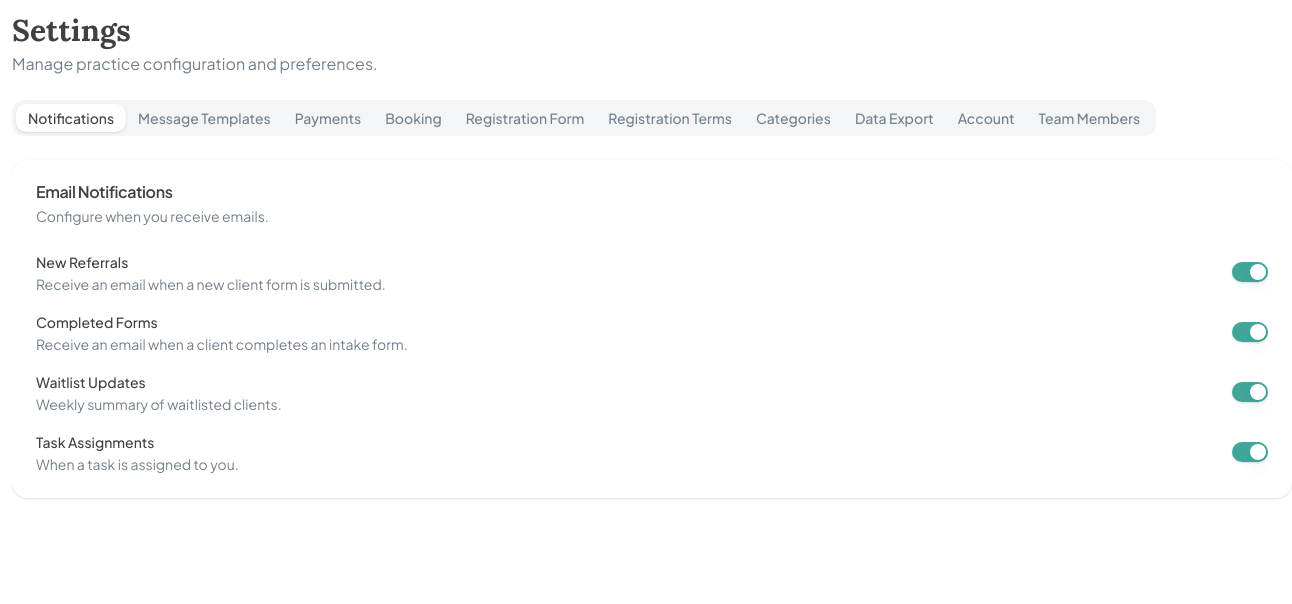
Scenario: signed-in booking settings › keeps an already-enabled workflow switch available so admins can turn it off when reconciliation is disabled
Click the tab "Booking". click: (413, 118)
box: 373,104 -> 454,132
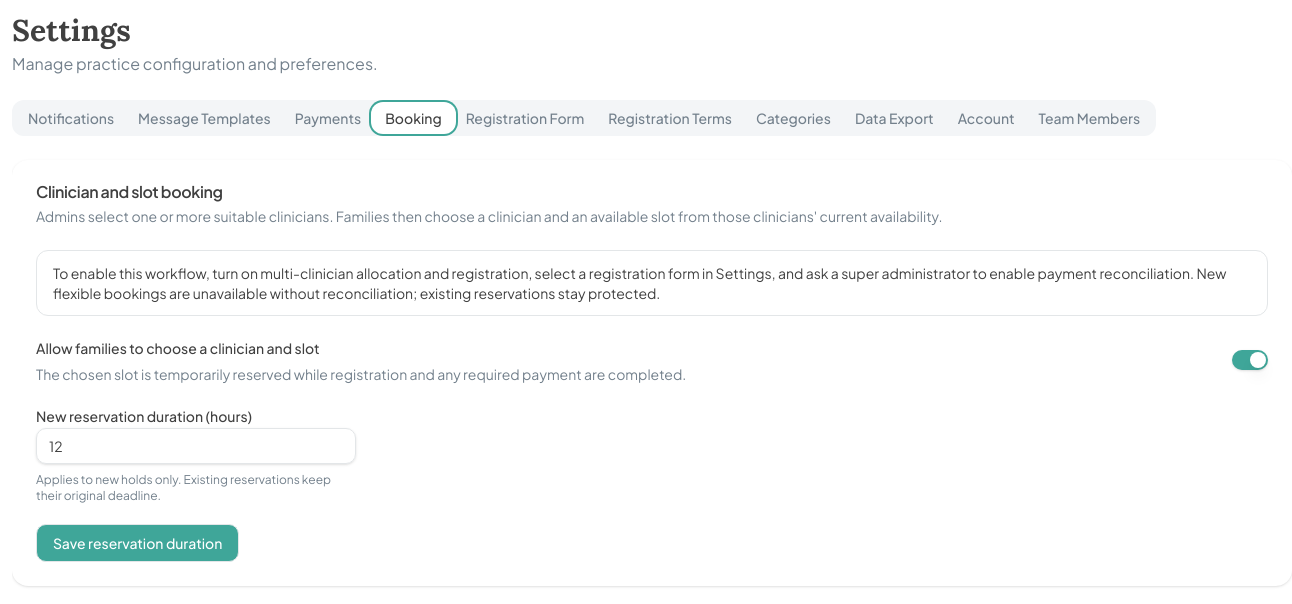
Check: the text "existing reservations stay protected" is shown, box 53,264 -> 1226,302
Check: the switch named "Allow families to choose a clinician and slot" is enabled, box 1232,350 -> 1268,370
Check: the text "Clinician and slot booking" is shown, box 36,181 -> 222,202
